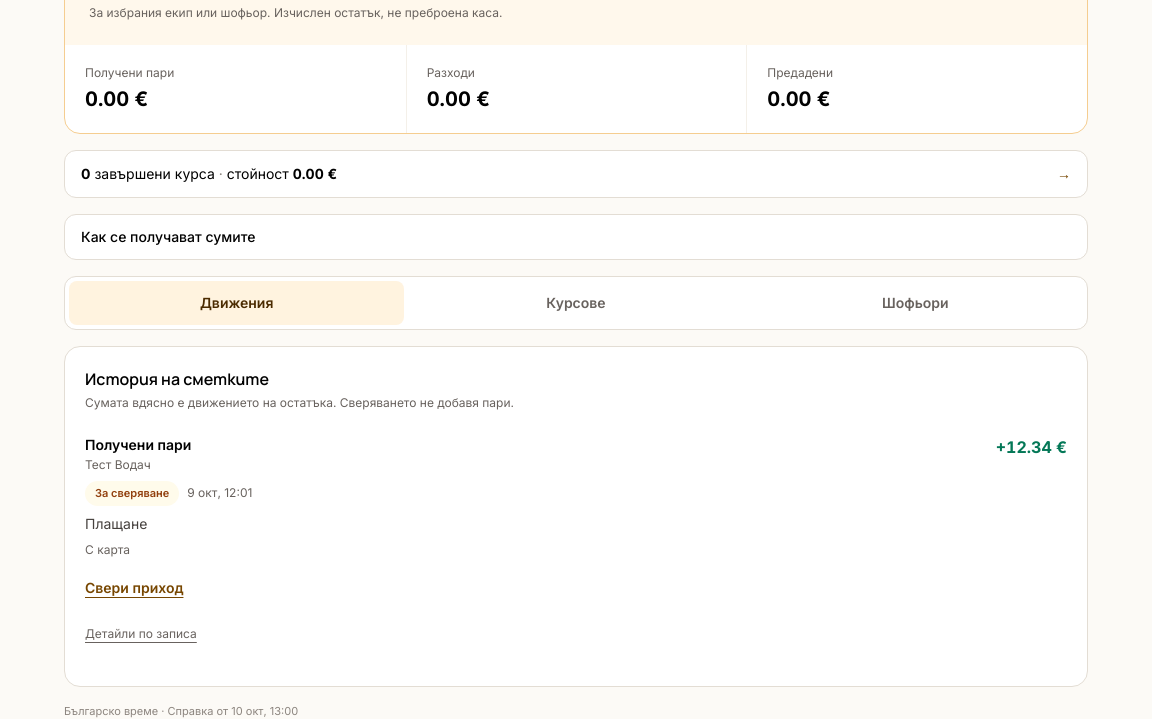
it: starts card reconciliation with a payment record and a required transaction reference
(page scrolled)
Step 1. Click the button "Свери приход" → [134, 588], box x1=85 y1=566 x2=184 y2=610
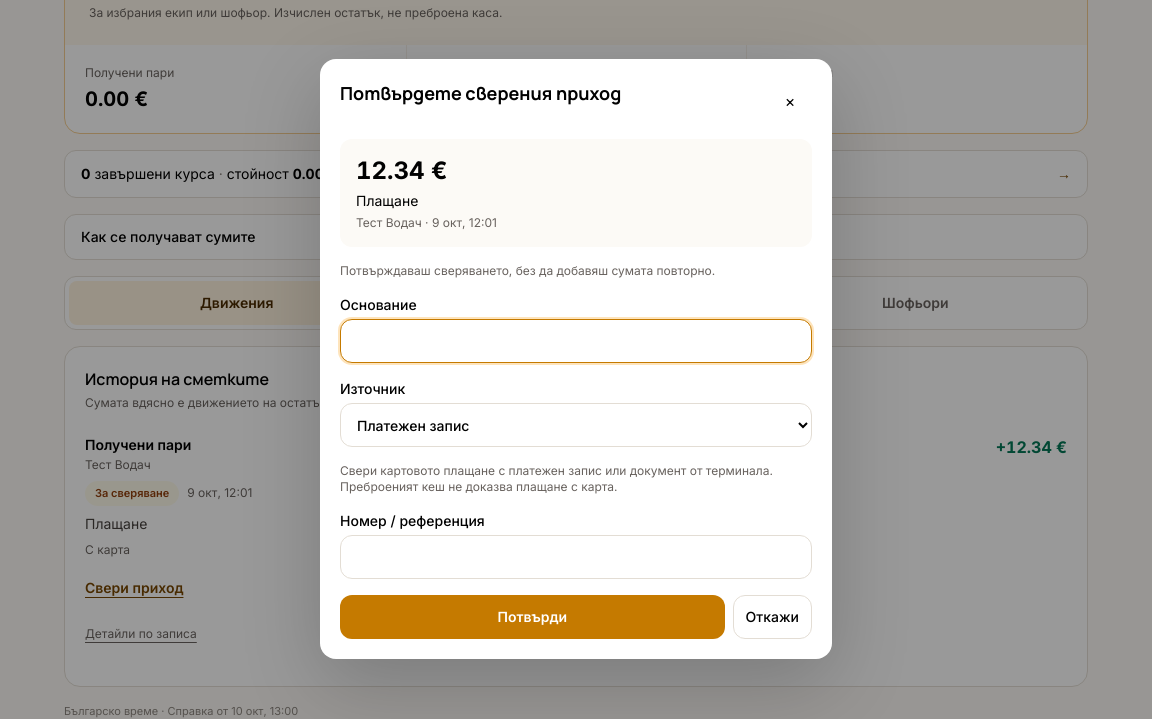
expect the dropdown labelled "Източник" shows "Платежен запис": met, box x1=340 y1=403 x2=812 y2=447
